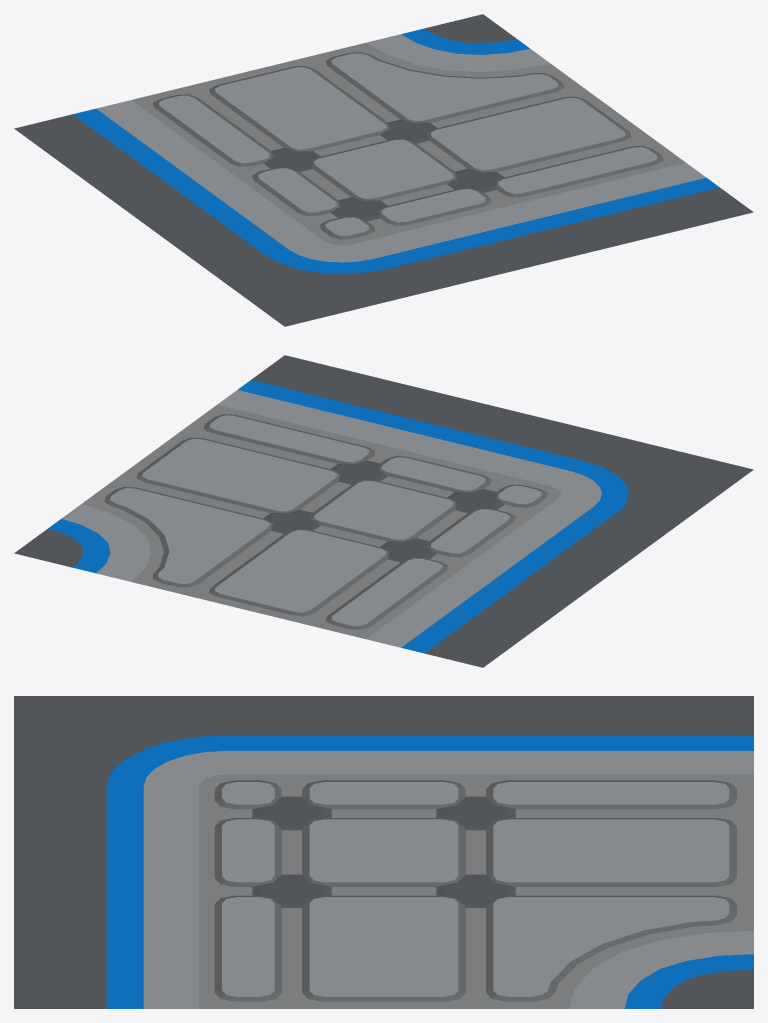
Rendered from Floor_type_B_016.glb.
3 renders of one model, top to bottom at view 1: azimuth 30°, elevation 25°; view 2: azimuth 150°, elevation 25°; view 3: azimuth 270°, elevation 25°, orthographic. The views are drawn at different scales.
Parts seen in each view (by area): view 1: Floor_type_B_016; view 2: Floor_type_B_016; view 3: Floor_type_B_016.
Boxes of the visible parts, left/top/right/bottom form: Floor_type_B_016: left=14, top=14, right=753, bottom=326; Floor_type_B_016: left=14, top=355, right=753, bottom=667; Floor_type_B_016: left=14, top=696, right=753, bottom=1008.
Bounding box in the file's own units: 4 × 0.0134 × 4.
2 materials, 2 textured.
